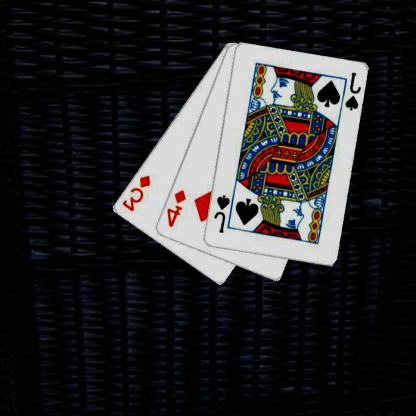3D: (121, 172, 154, 213)
4D: (166, 187, 188, 228)
JS: (213, 193, 232, 234), (344, 70, 363, 111)
